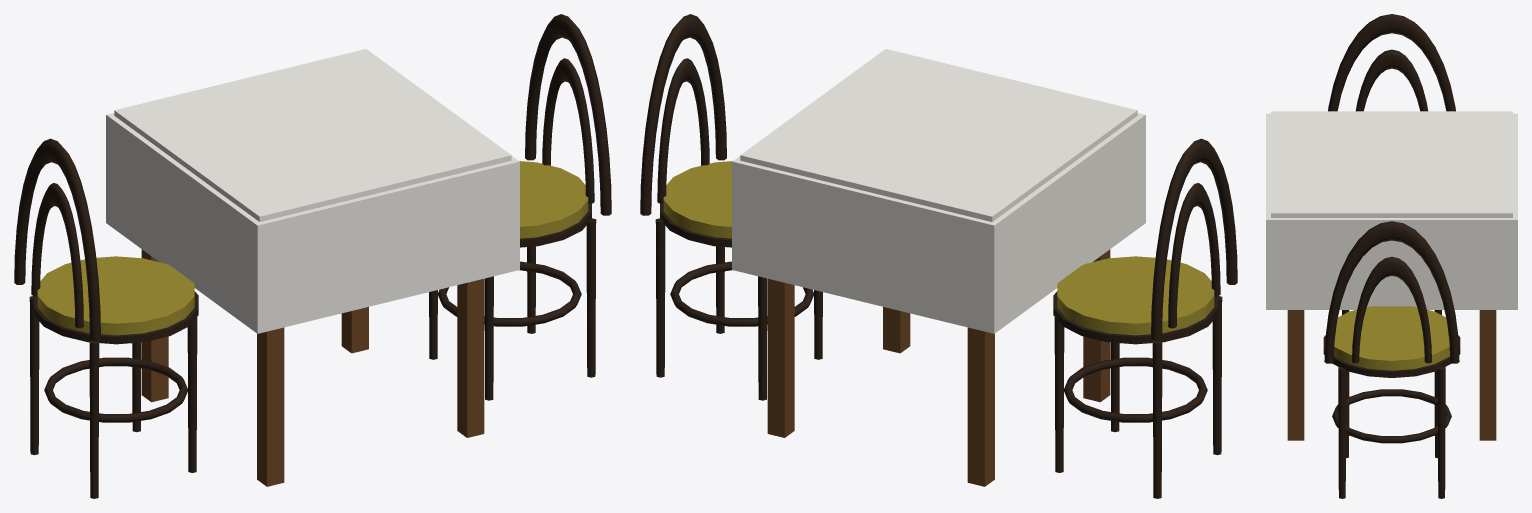
The model's file is table-cafe.obj.
The picture shows the model from 3 angles, left to right: view 1: azimuth 30°, elevation 25°; view 2: azimuth 150°, elevation 25°; view 3: azimuth 270°, elevation 25°; orthographic projection. The views are drawn at different scales.
Parts seen in each view (by area): view 1: table-cafe_2, table-cafe_1, table-cafe_16, table-cafe_14, table-cafe_23, table-cafe_5, table-cafe_6, table-cafe_7, table-cafe_22, table-cafe_24, table-cafe_15, table-cafe_13 (+10 smaller); view 2: table-cafe_2, table-cafe_1, table-cafe_16, table-cafe_14, table-cafe_23, table-cafe_3, table-cafe_4, table-cafe_7, table-cafe_22, table-cafe_24, table-cafe_15, table-cafe_13 (+10 smaller); view 3: table-cafe_1, table-cafe_2, table-cafe_7, table-cafe_14, table-cafe_23, table-cafe_4, table-cafe_6, table-cafe_15, table-cafe_13, table-cafe_24, table-cafe_11, table-cafe_12 (+1 smaller).
Part boxes in pixels (x1,y1,x2,y2): table-cafe_2: (106, 113, 519, 333); table-cafe_1: (114, 49, 511, 221); table-cafe_16: (37, 256, 194, 335); table-cafe_14: (525, 14, 611, 215); table-cafe_23: (14, 138, 100, 340); table-cafe_5: (257, 327, 284, 486); table-cafe_6: (457, 279, 484, 437); table-cafe_7: (519, 161, 588, 238); table-cafe_22: (44, 357, 187, 422); table-cafe_24: (31, 183, 83, 328); table-cafe_15: (542, 58, 594, 203); table-cafe_13: (437, 261, 581, 326); table-cafe_2: (732, 113, 1145, 333); table-cafe_1: (740, 49, 1137, 221); table-cafe_16: (1057, 256, 1214, 335); table-cafe_14: (640, 14, 726, 215); table-cafe_23: (1151, 138, 1237, 340); table-cafe_3: (967, 327, 994, 486); table-cafe_4: (767, 279, 794, 437); table-cafe_7: (663, 161, 732, 238); table-cafe_22: (1064, 357, 1207, 422); table-cafe_24: (1168, 183, 1220, 328); table-cafe_15: (657, 58, 709, 203); table-cafe_13: (670, 261, 814, 326); table-cafe_1: (1271, 111, 1512, 217); table-cafe_2: (1266, 113, 1517, 309); table-cafe_7: (1334, 306, 1449, 370); table-cafe_14: (1324, 221, 1459, 363); table-cafe_23: (1328, 14, 1455, 111); table-cafe_4: (1479, 310, 1496, 440); table-cafe_6: (1287, 310, 1304, 440); table-cafe_15: (1352, 256, 1431, 363); table-cafe_13: (1332, 389, 1451, 443); table-cafe_24: (1355, 49, 1428, 111); table-cafe_11: (1338, 366, 1346, 498); table-cafe_12: (1437, 366, 1445, 498).
Bounding box in the file's own units: 1.56 × 0.9292 × 0.76.
